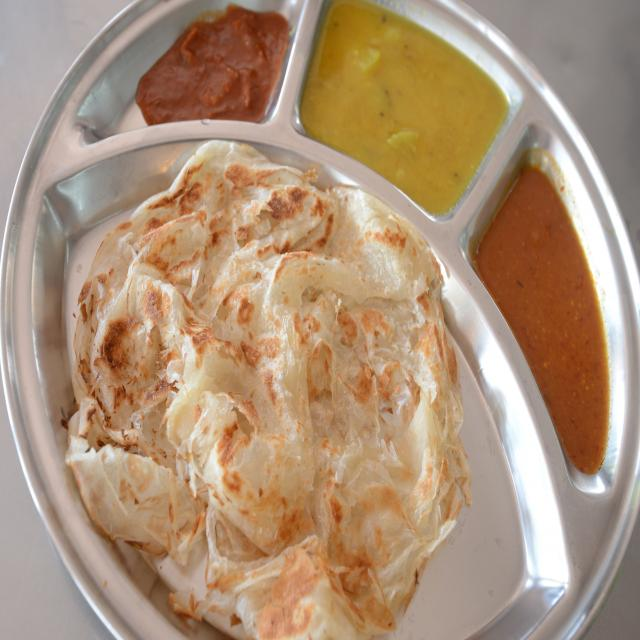Paratha: (52, 122, 466, 625)
